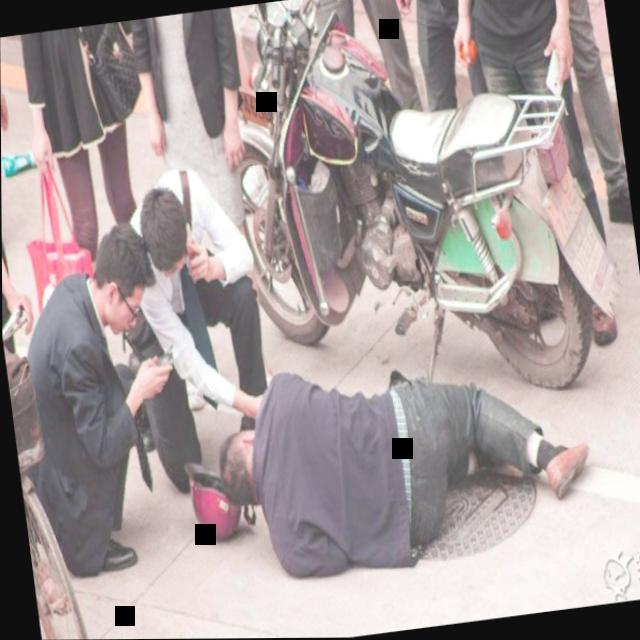Fall-Detected: (176, 309, 610, 599)
